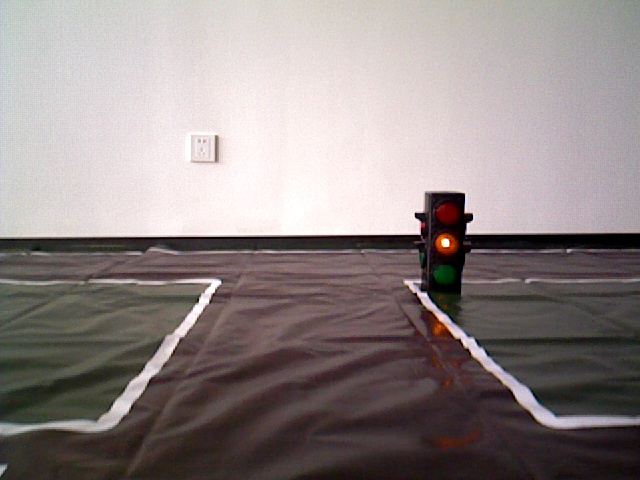yellow: (420, 188, 469, 301)
